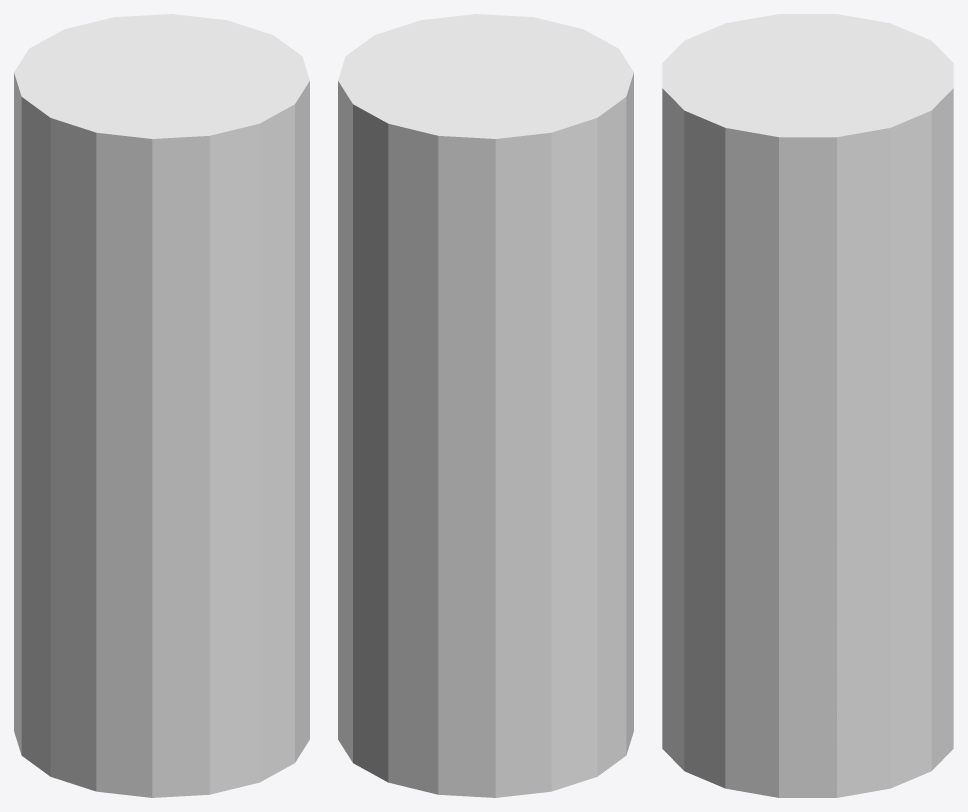
Rendered from mod_candle2.gltf.
3 renders of one model, left to right at view 1: azimuth 30°, elevation 25°; view 2: azimuth 150°, elevation 25°; view 3: azimuth 270°, elevation 25°, orthographic.
Parts seen in each view (by area): view 1: cylinder; view 2: cylinder; view 3: cylinder.
Part boxes in pixels (x1=…): cylinder: x1=14, y1=14, x2=309, y2=797; cylinder: x1=338, y1=14, x2=633, y2=797; cylinder: x1=662, y1=14, x2=953, y2=797.
Bounding box in the file's own units: 0.125 × 0.3125 × 0.125.
Materials: 1 (1 with a texture image).
